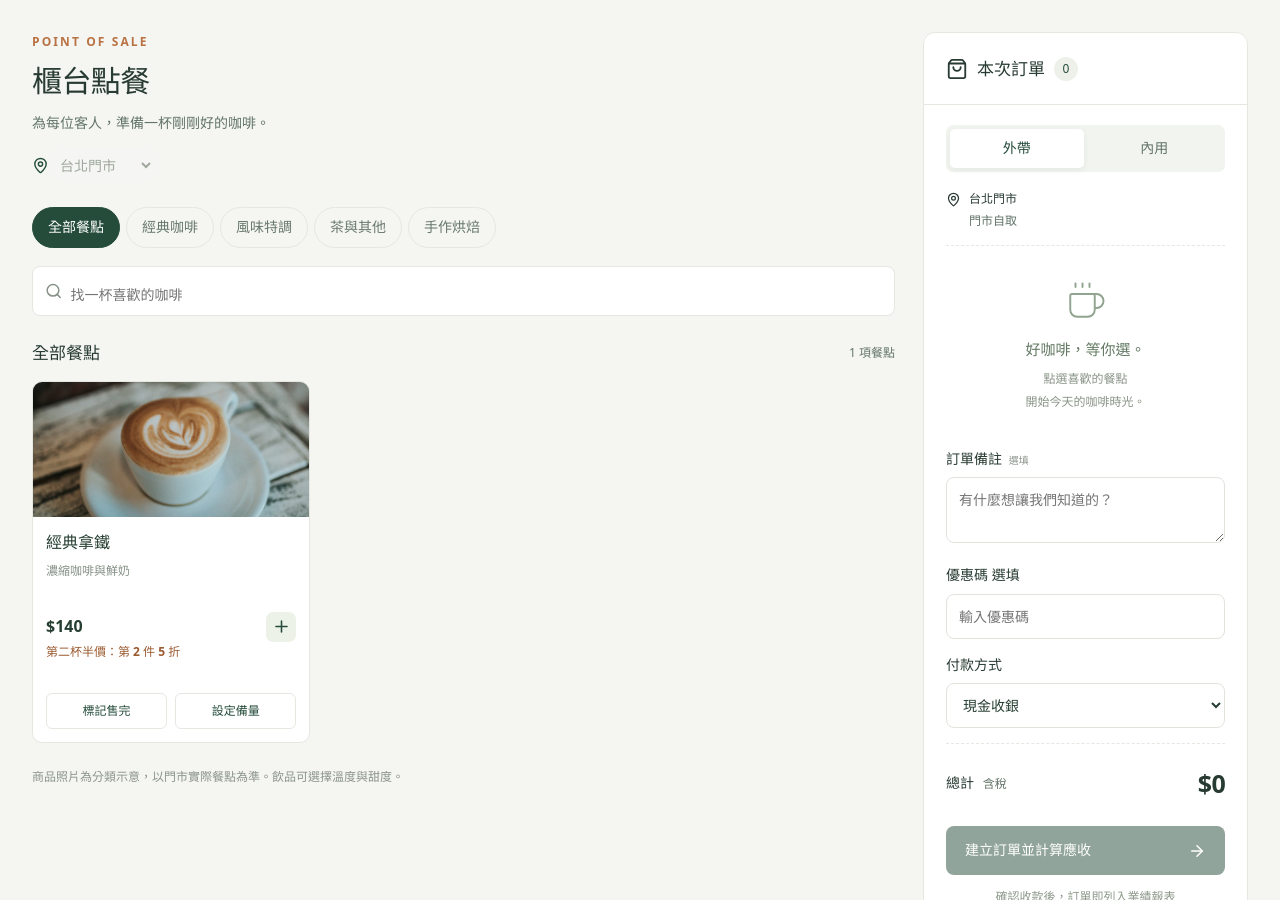
Scenario: MenuView 可見性 › 後端已回傳現金訂單後隱藏預測門檻並保留四行真實金額
Click the button "經典拿鐵 濃縮咖啡與鮮奶 $140 第二杯半價：第 2 件 5 折 標記售完 設定備量": click(171, 449) [32,381,310,743]
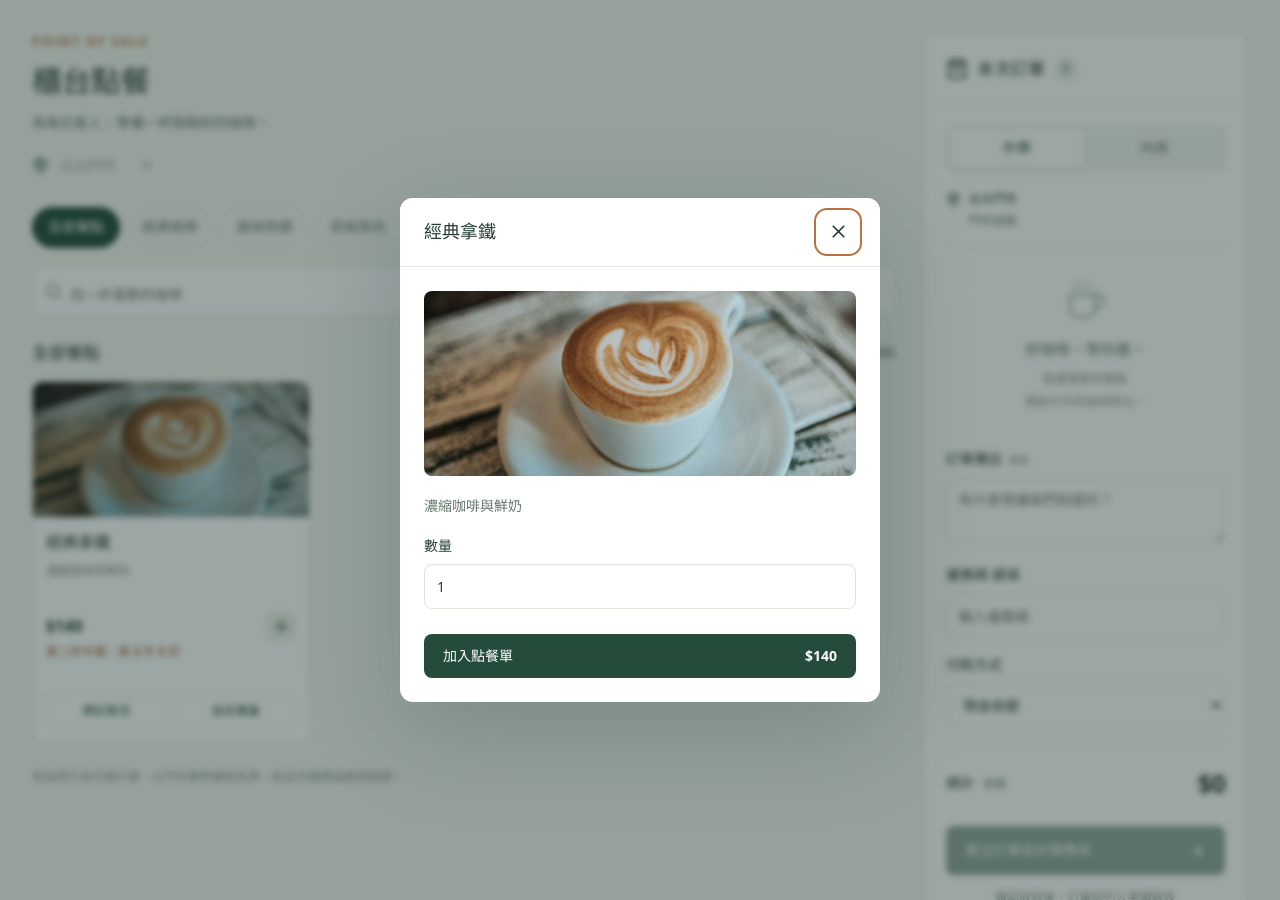
Expected: the button "加入點餐單 $140" is shown
Click the button "加入點餐單 $140": click(478, 656) [424,634,856,678]
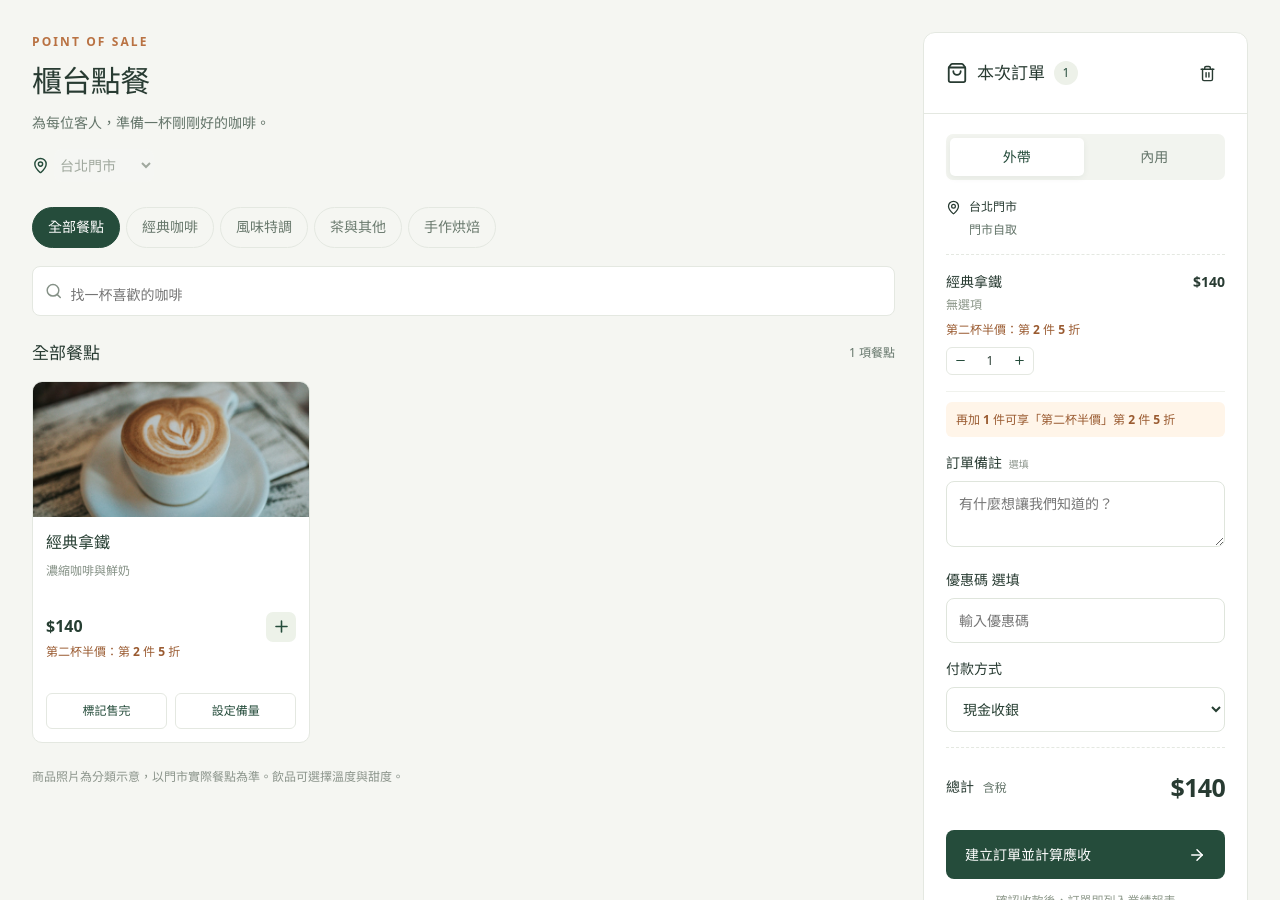
Click the button with class "checkout": click(1086, 855) [946,830,1225,880]
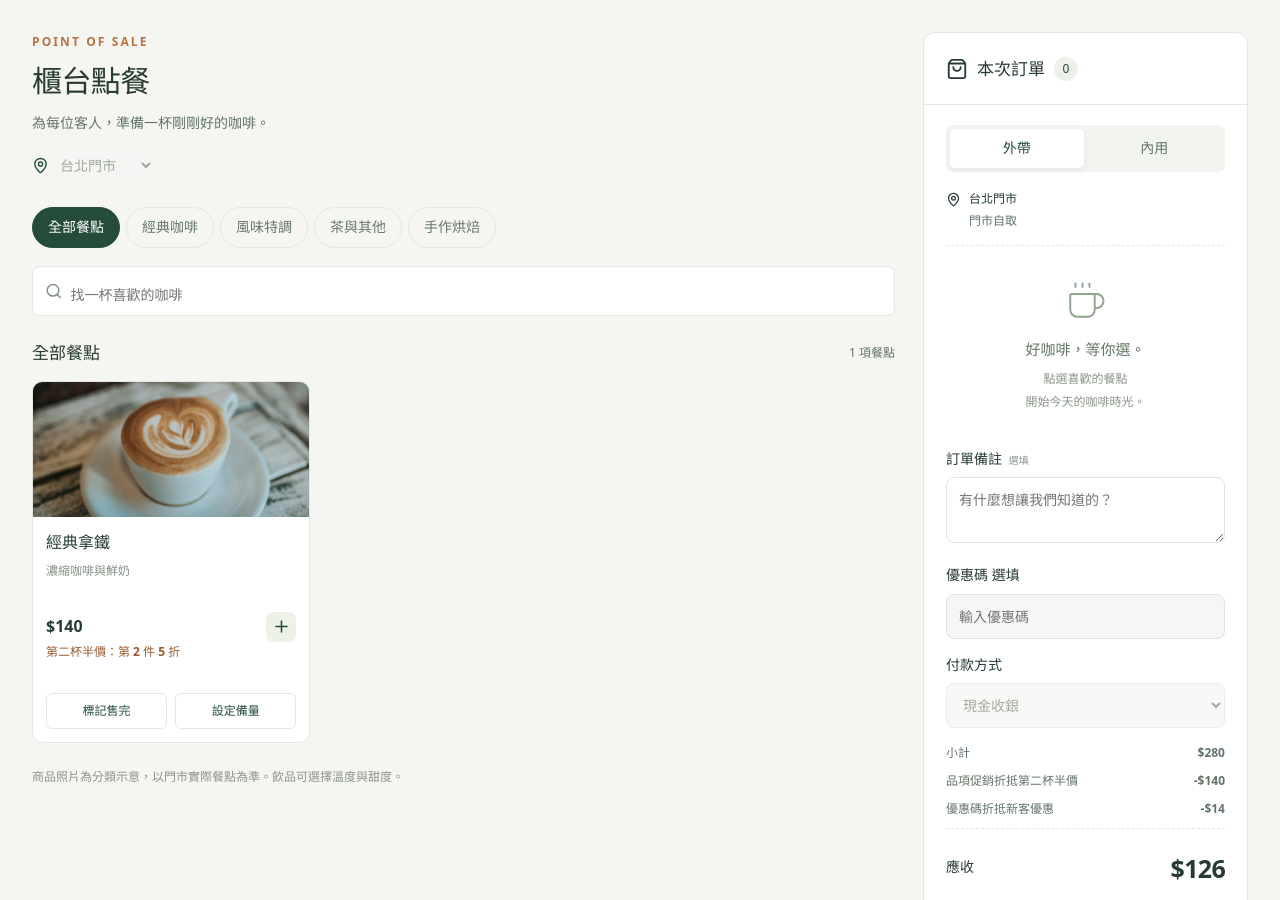
Expected: the element showing "小計 $280" is shown, [946,743,1225,762]
Expected: the text "140" is shown, [1194,772,1225,789]
Expected: the text "14" is shown, [1200,800,1225,818]
